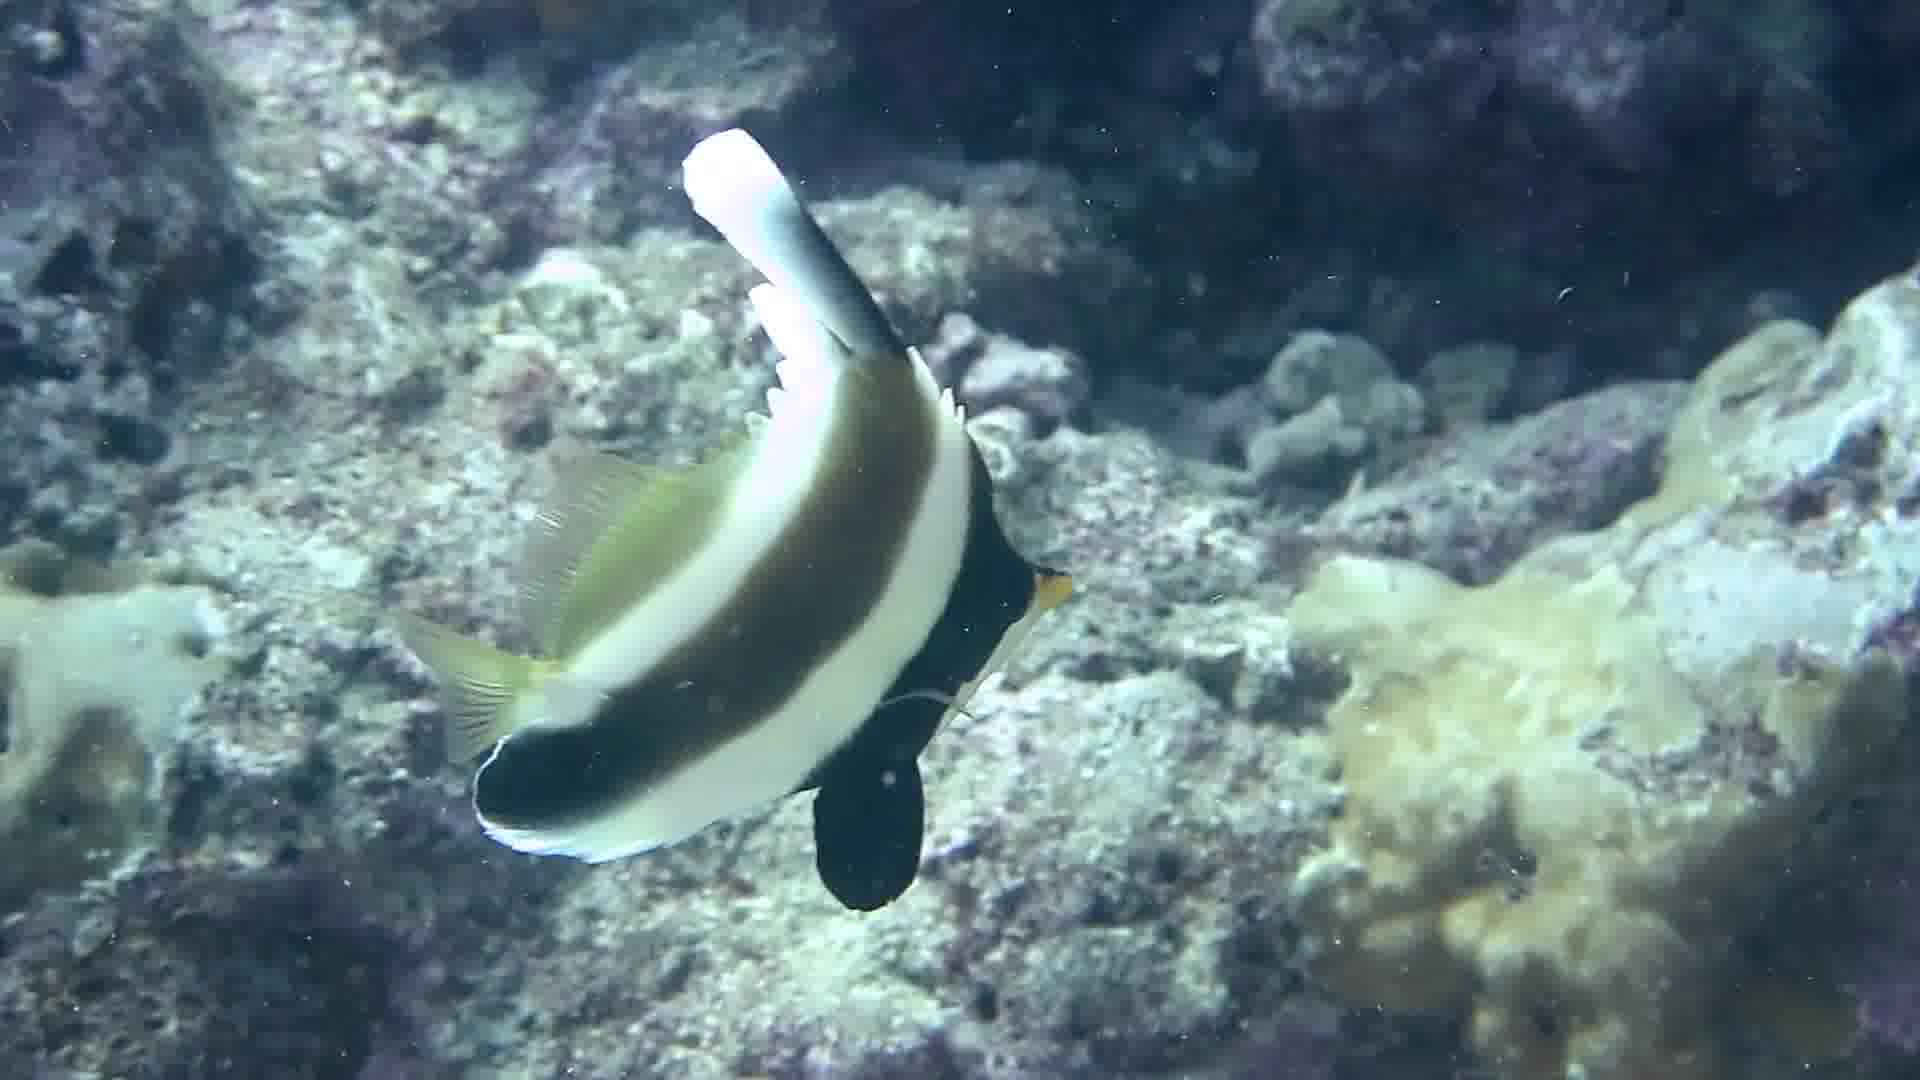Heniochus chrysostomus: (407, 30, 1135, 997)
